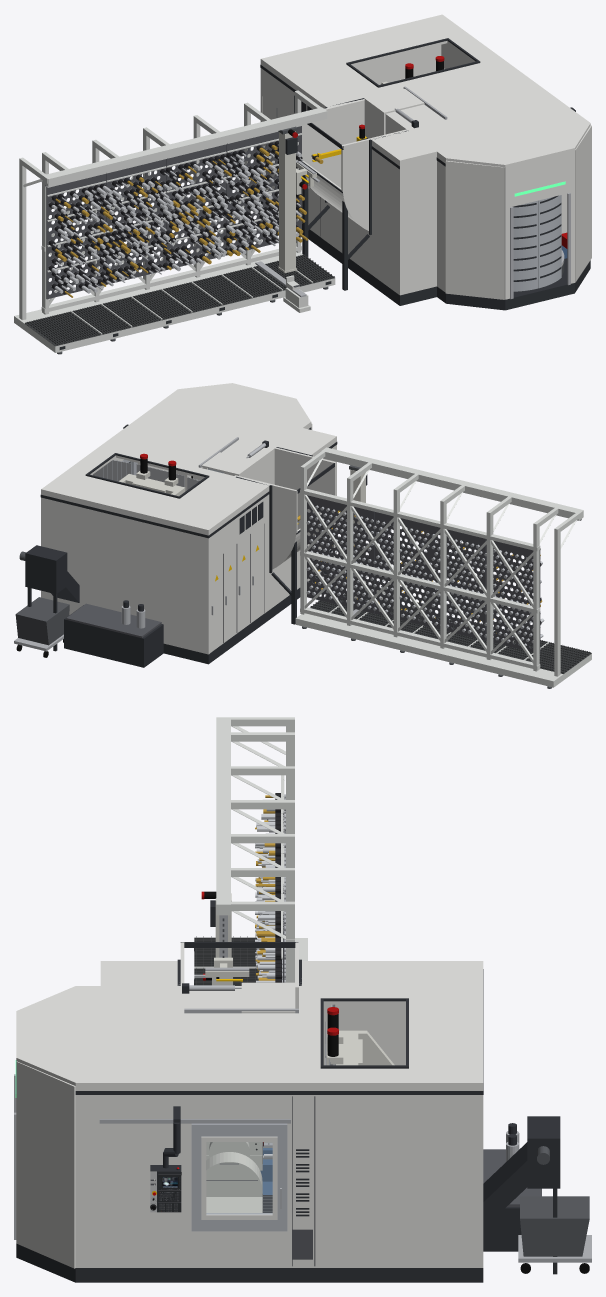
The model's file is hmc_x1200_5ax_white_right_sidemag.glb.
The picture shows the model from 3 angles, top to bottom: view 1: azimuth 30°, elevation 25°; view 2: azimuth 150°, elevation 25°; view 3: azimuth 270°, elevation 25°; orthographic projection. The views are drawn at different scales.
Parts seen in each view (by area): view 1: enclosure__hmc_white, apc_housing__hmc_white, twm_frame__truss_white, twm_tools__holder, twm_frame__anthracite_lt, twm_tools__tool_bright, twm_base__grating, tc_box__hmc_white, twm_base__truss_white, enclosure__anthracite, twm_tools__tool_gold, mag_loader__struct_grey (+9 smaller); view 2: enclosure__hmc_white, twm_frame__truss_white, twm_frame__anthracite_lt, chip_coolant__anthracite, electrical_cabinet__hmc_white, twm_tools__steel, twm_base__truss_white, tc_box__hmc_white, enclosure__anthracite, apc_housing__hmc_white, twm_base__grating, chip_cart__steel_dark (+6 smaller); view 3: enclosure__hmc_white, apc_housing__hmc_white, twm_frame__truss_white, enclosure__anthracite, chip_coolant__anthracite, operator_door__glass_clear, operator_door__door_grey, chip_cart__steel_dark, table__struct_grey, twm_tools__tool_bright, operator_door__hmc_white, enclosure__steel (+11 smaller).
Boxes of the visible parts, box(x1,y1,x2,y2) form: enclosure__hmc_white: box(260, 14, 580, 295); apc_housing__hmc_white: box(437, 116, 591, 299); twm_frame__truss_white: box(19, 90, 327, 320); twm_tools__holder: box(48, 141, 302, 294); twm_frame__anthracite_lt: box(46, 126, 301, 299); twm_tools__tool_bright: box(51, 144, 303, 293); twm_base__grating: box(25, 254, 334, 346); tc_box__hmc_white: box(302, 99, 407, 230); twm_base__truss_white: box(14, 252, 335, 352); enclosure__anthracite: box(260, 38, 480, 305); twm_tools__tool_gold: box(55, 145, 308, 297); mag_loader__struct_grey: box(278, 131, 296, 273); enclosure__hmc_white: box(41, 395, 336, 654); twm_frame__truss_white: box(300, 447, 583, 676); twm_frame__anthracite_lt: box(307, 495, 540, 653); chip_coolant__anthracite: box(25, 545, 163, 667); electrical_cabinet__hmc_white: box(210, 523, 263, 652); twm_tools__steel: box(306, 505, 533, 646); twm_base__truss_white: box(295, 600, 591, 687); tc_box__hmc_white: box(236, 447, 336, 569); enclosure__anthracite: box(40, 440, 337, 664); apc_housing__hmc_white: box(170, 383, 312, 477); twm_base__grating: box(310, 593, 591, 673); chip_cart__steel_dark: box(15, 597, 69, 645); enclosure__hmc_white: box(100, 961, 483, 1267); apc_housing__hmc_white: box(16, 986, 100, 1268); twm_frame__truss_white: box(216, 717, 294, 982); enclosure__anthracite: box(100, 959, 483, 1282); chip_coolant__anthracite: box(483, 1116, 560, 1274); operator_door__glass_clear: box(207, 1142, 271, 1213); operator_door__door_grey: box(191, 1123, 287, 1231); chip_cart__steel_dark: box(520, 1196, 589, 1256); table__struct_grey: box(206, 1142, 262, 1212); twm_tools__tool_bright: box(255, 799, 275, 982); operator_door__hmc_white: box(201, 1136, 277, 1219); enclosure__steel: box(99, 985, 298, 1123).
Size of the model in its own units: 11.17 by 3.54 by 7.86.
Materials: 22 (2 with a texture image).
